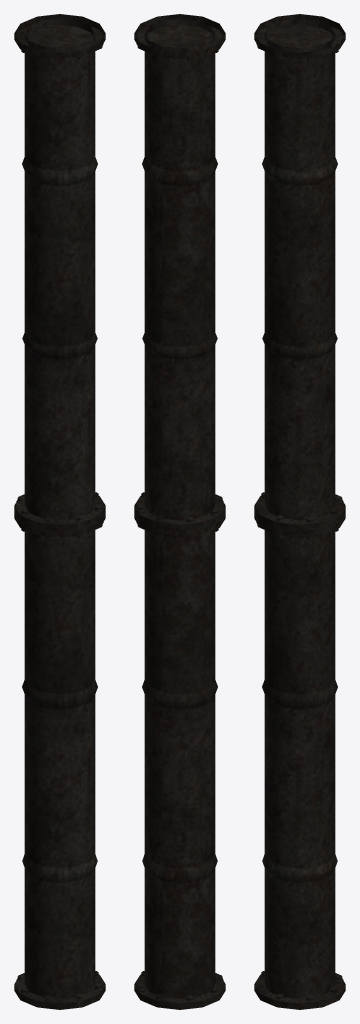
The model's file is pipe_1.fbx.
The picture shows the model from 3 angles, left to right: view 1: azimuth 30°, elevation 25°; view 2: azimuth 150°, elevation 25°; view 3: azimuth 330°, elevation 25°; orthographic projection.
Parts seen in each view (by area): view 1: pipe_1; view 2: pipe_1; view 3: pipe_1.
Boxes of the visible parts, bbox=[...] form: pipe_1: bbox=[14, 14, 105, 1009]; pipe_1: bbox=[134, 14, 225, 1009]; pipe_1: bbox=[254, 14, 345, 1009].
Bounding box in the file's own units: 0.26 × 0.26 × 3.
